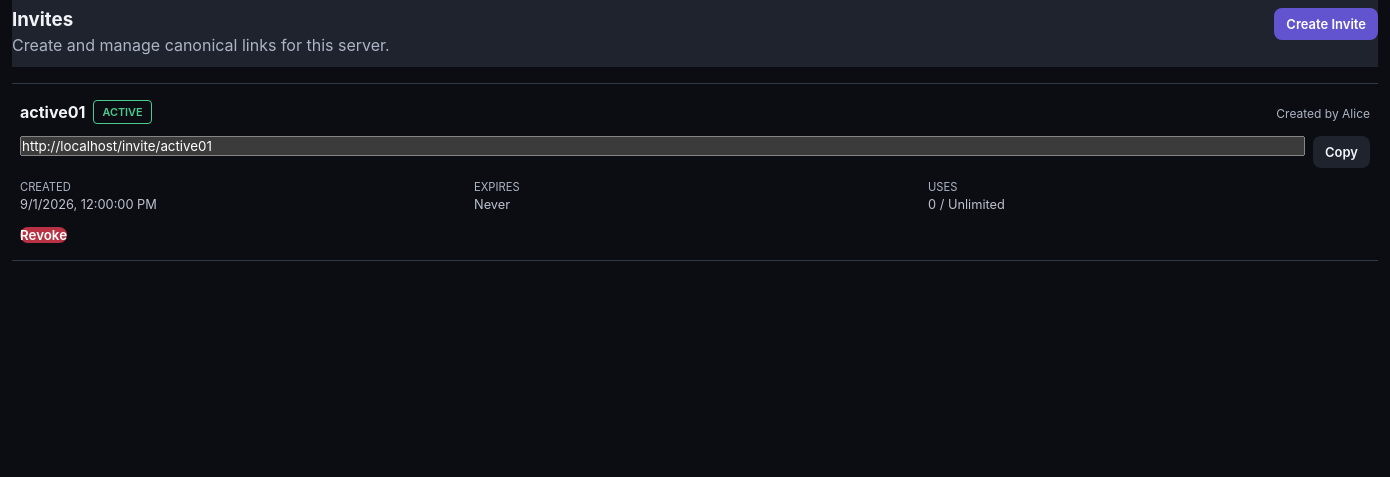
Scenario: F.5.4 Invite Administration › keeps failed creation actionable with the selected policy
Expected: the text "active01" is shown, [20,102,85,122]
Click the button "Create Invite" at x=1326, y=24, box [1274,8,1378,40]
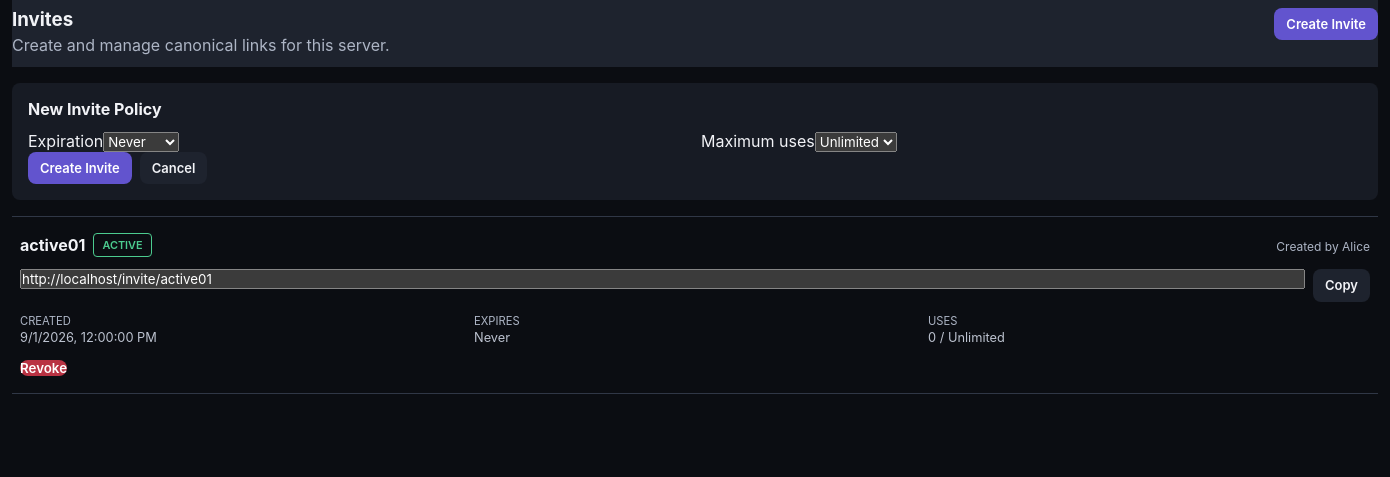
Select "6 hours" in the dropdown labelled "Expiration" at x=141, y=142, box [103,132,179,152]
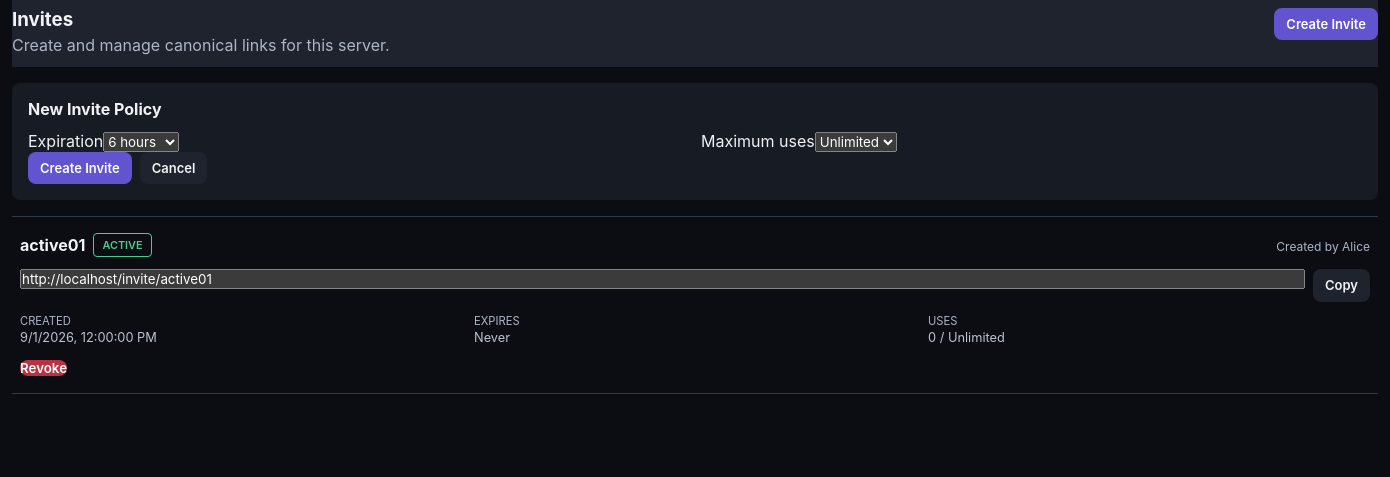
Click the button "Create Invite" below "Expiration" at x=80, y=168, box [28,152,132,184]
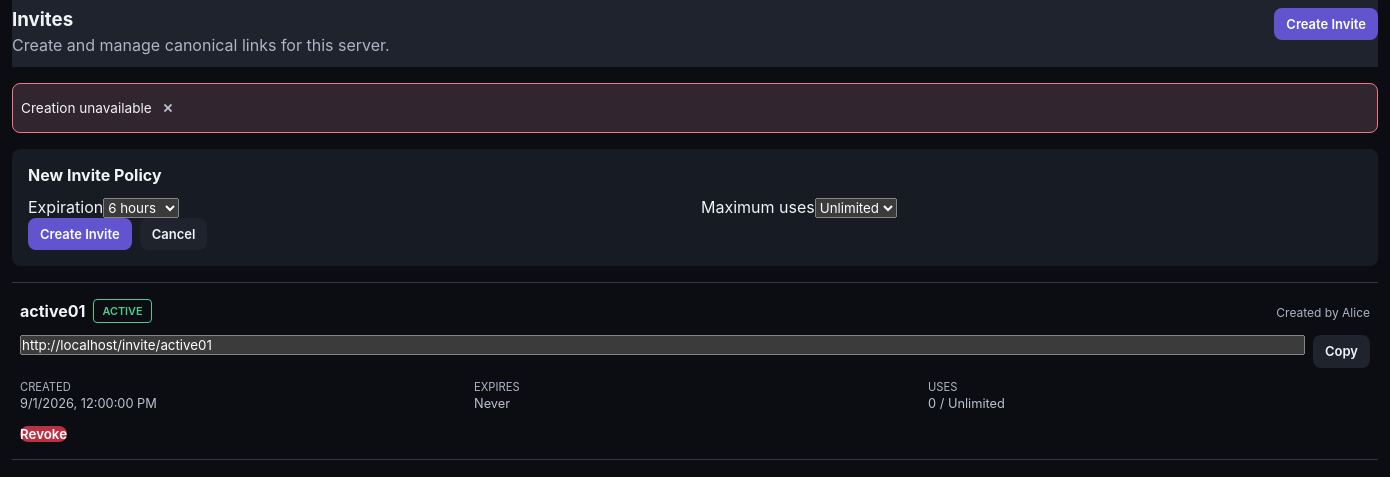
Result: the text "Creation unavailable" is shown at [21,100,152,116]
